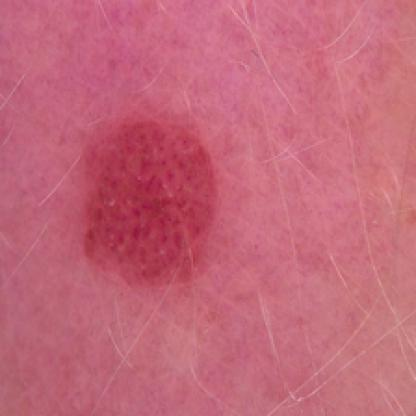benign: (87, 78, 218, 293)
